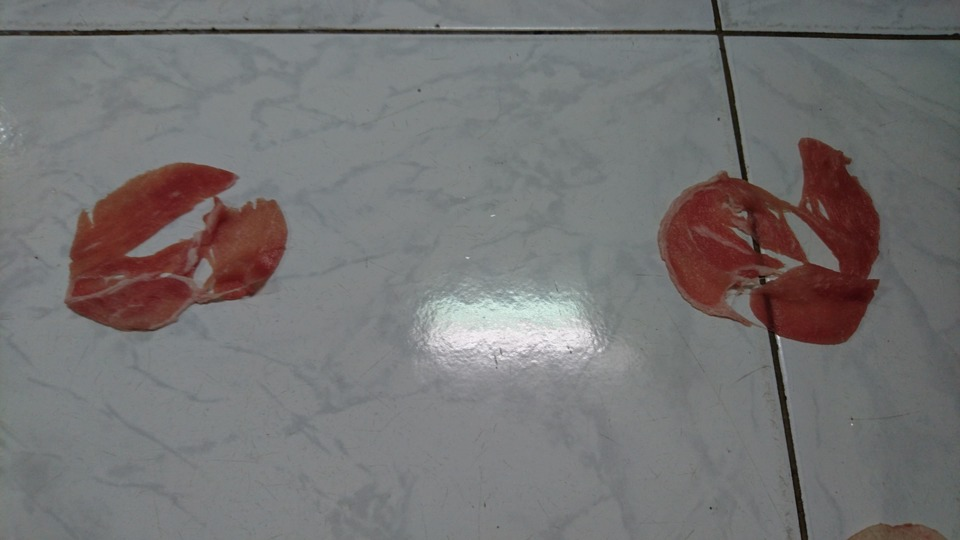restructured meat: (657, 132, 883, 350), (67, 156, 294, 333)
